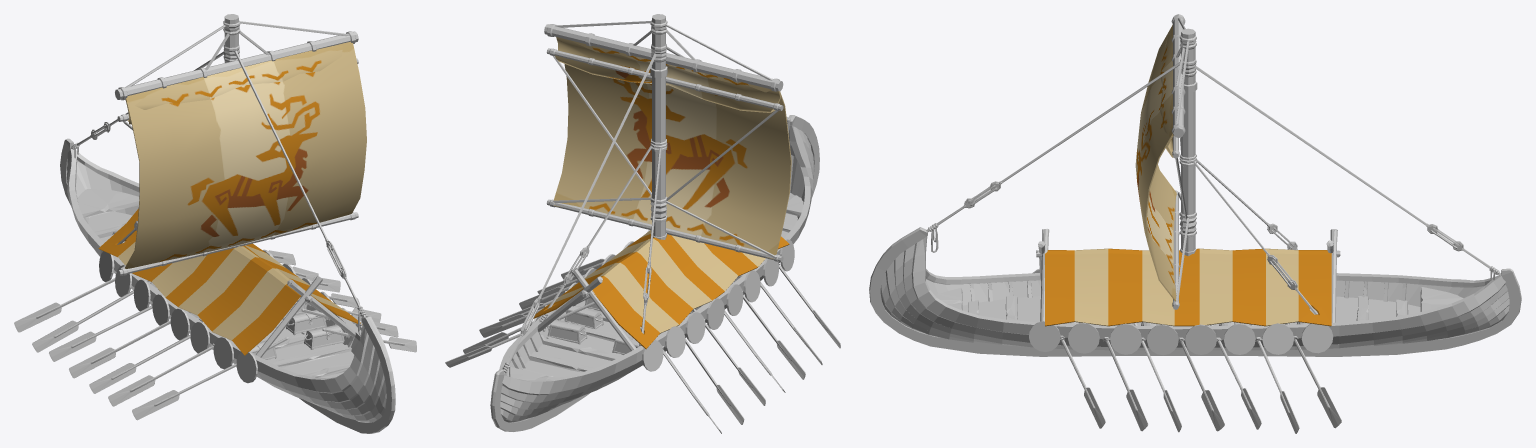
Rendered from SM_Veh_Boat_Medium_01.fbx.
3 renders of one model, left to right at view 1: azimuth 30°, elevation 25°; view 2: azimuth 150°, elevation 25°; view 3: azimuth 270°, elevation 25°, orthographic.
Parts seen in each view (by area): view 1: SM_Veh_Boat_Medium_01, SM_Veh_Boat_Medium_01_Tent_Cloth_01; view 2: SM_Veh_Boat_Medium_01, SM_Veh_Boat_Medium_01_Tent_Cloth_01; view 3: SM_Veh_Boat_Medium_01, SM_Veh_Boat_Medium_01_Tent_Cloth_01.
Part boxes in pixels (bbox=[...]): SM_Veh_Boat_Medium_01: bbox=[14, 14, 416, 433]; SM_Veh_Boat_Medium_01_Tent_Cloth_01: bbox=[98, 209, 362, 355]; SM_Veh_Boat_Medium_01: bbox=[445, 14, 840, 433]; SM_Veh_Boat_Medium_01_Tent_Cloth_01: bbox=[533, 230, 789, 349]; SM_Veh_Boat_Medium_01: bbox=[869, 14, 1521, 433]; SM_Veh_Boat_Medium_01_Tent_Cloth_01: bbox=[1045, 248, 1331, 326].
Size of the model in its own units: 1004 by 1122 by 1978.
